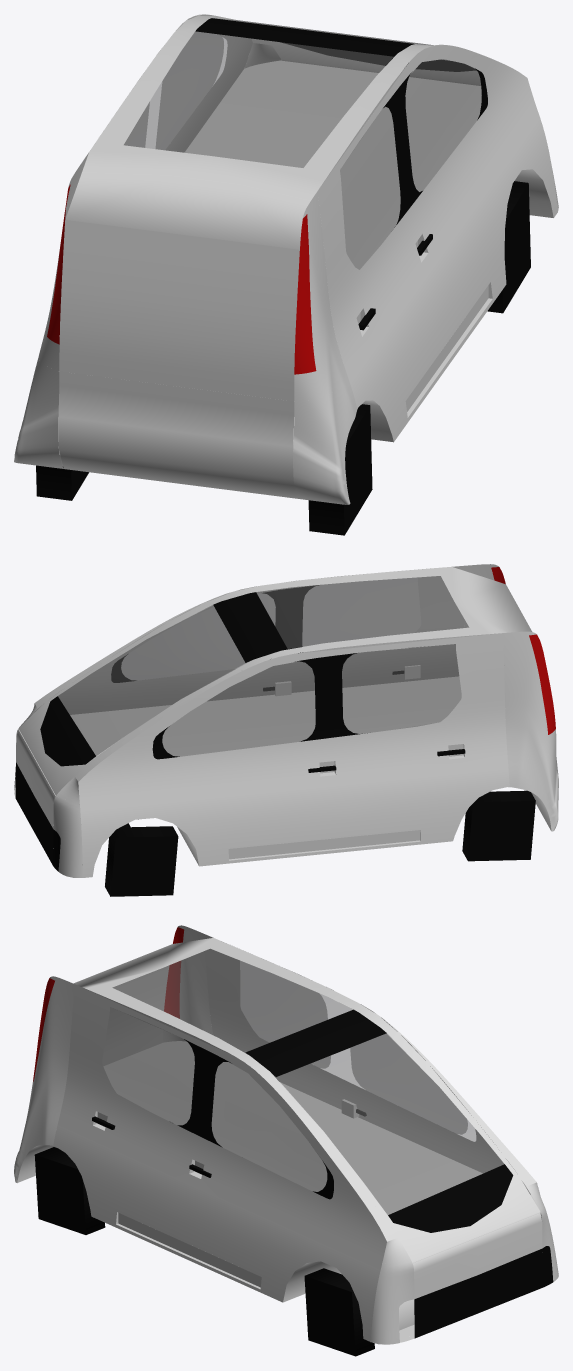
3 renders of one model, top to bottom at view 1: azimuth 30°, elevation 25°; view 2: azimuth 150°, elevation 25°; view 3: azimuth 270°, elevation 25°, orthographic. The views are drawn at different scales.
Visible parts, largest first — view 1: white, glass, black, red; view 2: white, glass, black, red; view 3: white, glass, black, red.
Part boxes in pixels (<box>): white: <box>14,14,558,504</box>; glass: <box>124,18,481,269</box>; black: <box>36,18,530,535</box>; red: <box>47,184,316,374</box>; white: <box>14,564,558,877</box>; glass: <box>58,576,468,756</box>; black: <box>14,585,535,896</box>; red: <box>491,567,555,734</box>; white: <box>14,925,558,1344</box>; glass: <box>102,949,504,1214</box>; black: <box>34,1009,553,1356</box>; red: <box>33,927,184,1081</box>.
Size of the model in its own units: 3.81 by 1.78 by 3.72.
